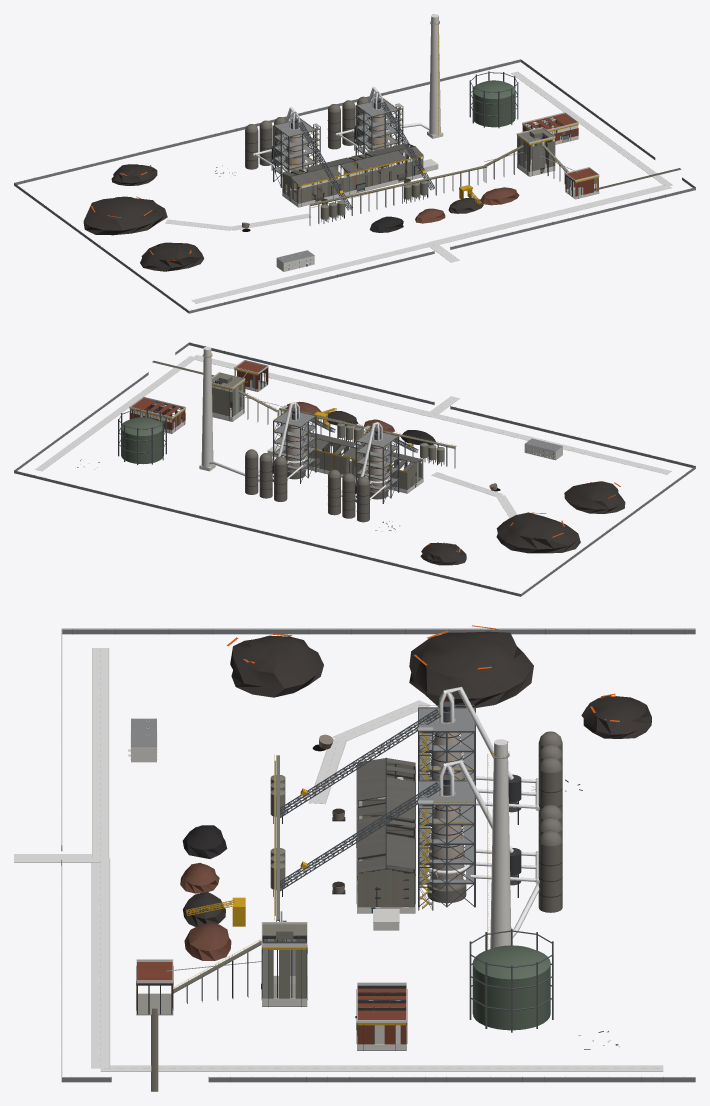
The model's file is ore-smelter.glb.
3 views of the same model, one above another, from view 1: azimuth 30°, elevation 25°; view 2: azimuth 150°, elevation 25°; view 3: azimuth 270°, elevation 25° (orthographic). The views are drawn at different scales.
Parts seen in each view (by area): view 1: C0_0_lod0, C0_-1_lod0, C-1_0_lod0, C1_0_lod0, C-1_-1_lod0, C1_-2_lod0, C-2_-2_lod0, C-3_0_lod0, C1_-1_lod0, C-3_-1_lod0, C2_0_lod0, C0_1_lod0 (+1 smaller); view 2: C0_0_lod0, C-1_0_lod0, C1_0_lod0, C1_-2_lod0, C-3_0_lod0, C-2_-2_lod0, C-3_-1_lod0, C0_-1_lod0, C1_-1_lod0, C2_0_lod0, C-1_-1_lod0, C0_1_lod0 (+1 smaller); view 3: C0_0_lod0, C1_0_lod0, C-1_0_lod0, C0_-1_lod0, C-3_-1_lod0, C2_0_lod0, C-3_0_lod0, C1_-2_lod0, C-1_-1_lod0, C-2_-2_lod0, C1_-1_lod0, C-2_1_lod0 (+3 smaller).
Part boxes in pixels (left/top/right/bottom): C0_0_lod0: left=283, top=86, right=438, bottom=207; C0_-1_lod0: left=310, top=102, right=519, bottom=223; C-1_0_lod0: left=215, top=107, right=405, bottom=201; C1_0_lod0: left=427, top=14, right=578, bottom=144; C-1_-1_lod0: left=230, top=122, right=423, bottom=232; C1_-2_lod0: left=429, top=167, right=695, bottom=249; C-2_-2_lod0: left=189, top=242, right=433, bottom=313; C-3_0_lod0: left=43, top=196, right=167, bottom=248; C1_-1_lod0: left=483, top=122, right=578, bottom=186; C-3_-1_lod0: left=14, top=183, right=204, bottom=313; C2_0_lod0: left=511, top=59, right=672, bottom=186; C0_1_lod0: left=14, top=59, right=520, bottom=184; C0_0_lod0: left=209, top=402, right=422, bottom=501; C-1_0_lod0: left=305, top=422, right=419, bottom=531; C1_0_lod0: left=118, top=346, right=215, bottom=471; C1_-2_lod0: left=189, top=342, right=433, bottom=416; C-3_0_lod0: left=496, top=512, right=583, bottom=572; C-2_-2_lod0: left=429, top=406, right=695, bottom=474; C-3_-1_lod0: left=521, top=466, right=695, bottom=596; C0_-1_lod0: left=279, top=401, right=455, bottom=462; C1_-1_lod0: left=143, top=370, right=280, bottom=426; C2_0_lod0: left=14, top=356, right=196, bottom=471; C-1_-1_lod0: left=357, top=430, right=502, bottom=497; C0_1_lod0: left=14, top=470, right=520, bottom=596; C0_0_lod0: left=357, top=757, right=562, bottom=937; C1_0_lod0: left=357, top=739, right=553, bottom=1050; C-1_0_lod0: left=361, top=686, right=582, bottom=913; C0_-1_lod0: left=180, top=754, right=440, bottom=960; C-3_-1_lod0: left=62, top=628, right=695, bottom=697; C2_0_lod0: left=100, top=1003, right=695, bottom=1082; C-3_0_lod0: left=394, top=625, right=588, bottom=707; C1_-2_lod0: left=61, top=858, right=174, bottom=1075; C-1_-1_lod0: left=182, top=709, right=440, bottom=875; C-2_-2_lod0: left=61, top=628, right=157, bottom=858; C1_-1_lod0: left=166, top=911, right=378, bottom=1024; C-2_1_lod0: left=581, top=693, right=651, bottom=738.
Size of what is drawn, in the model's own units: 500 by 111 by 315.
